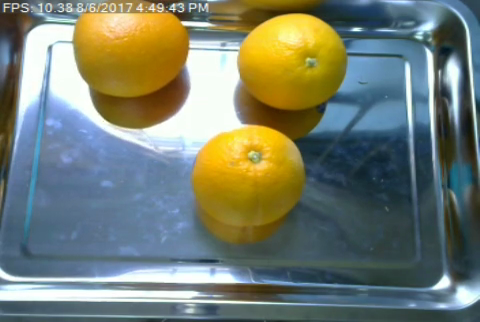Orange: (191, 126, 304, 227), (72, 0, 190, 95), (237, 13, 348, 110)
